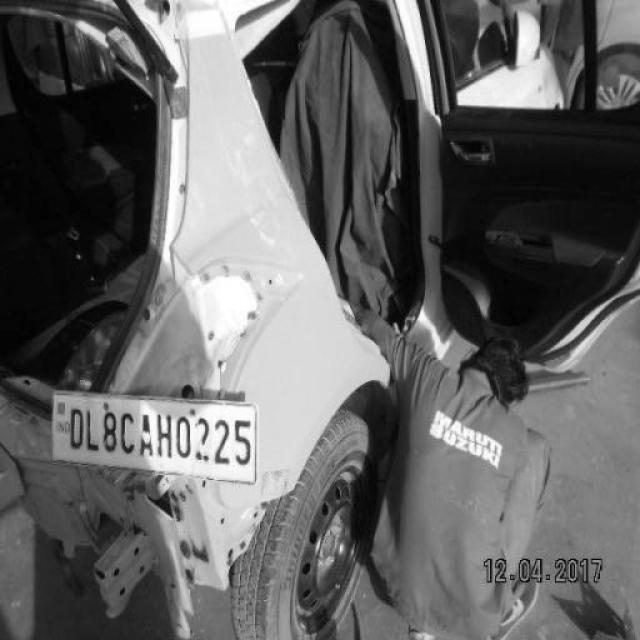missing: (0, 255, 300, 640)
